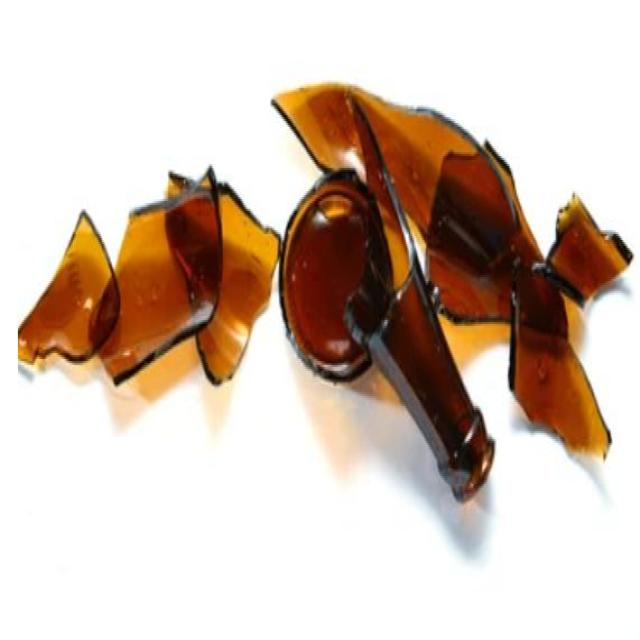electronic: (344, 94, 497, 508), (17, 162, 282, 400), (510, 179, 637, 459), (280, 166, 397, 405)
